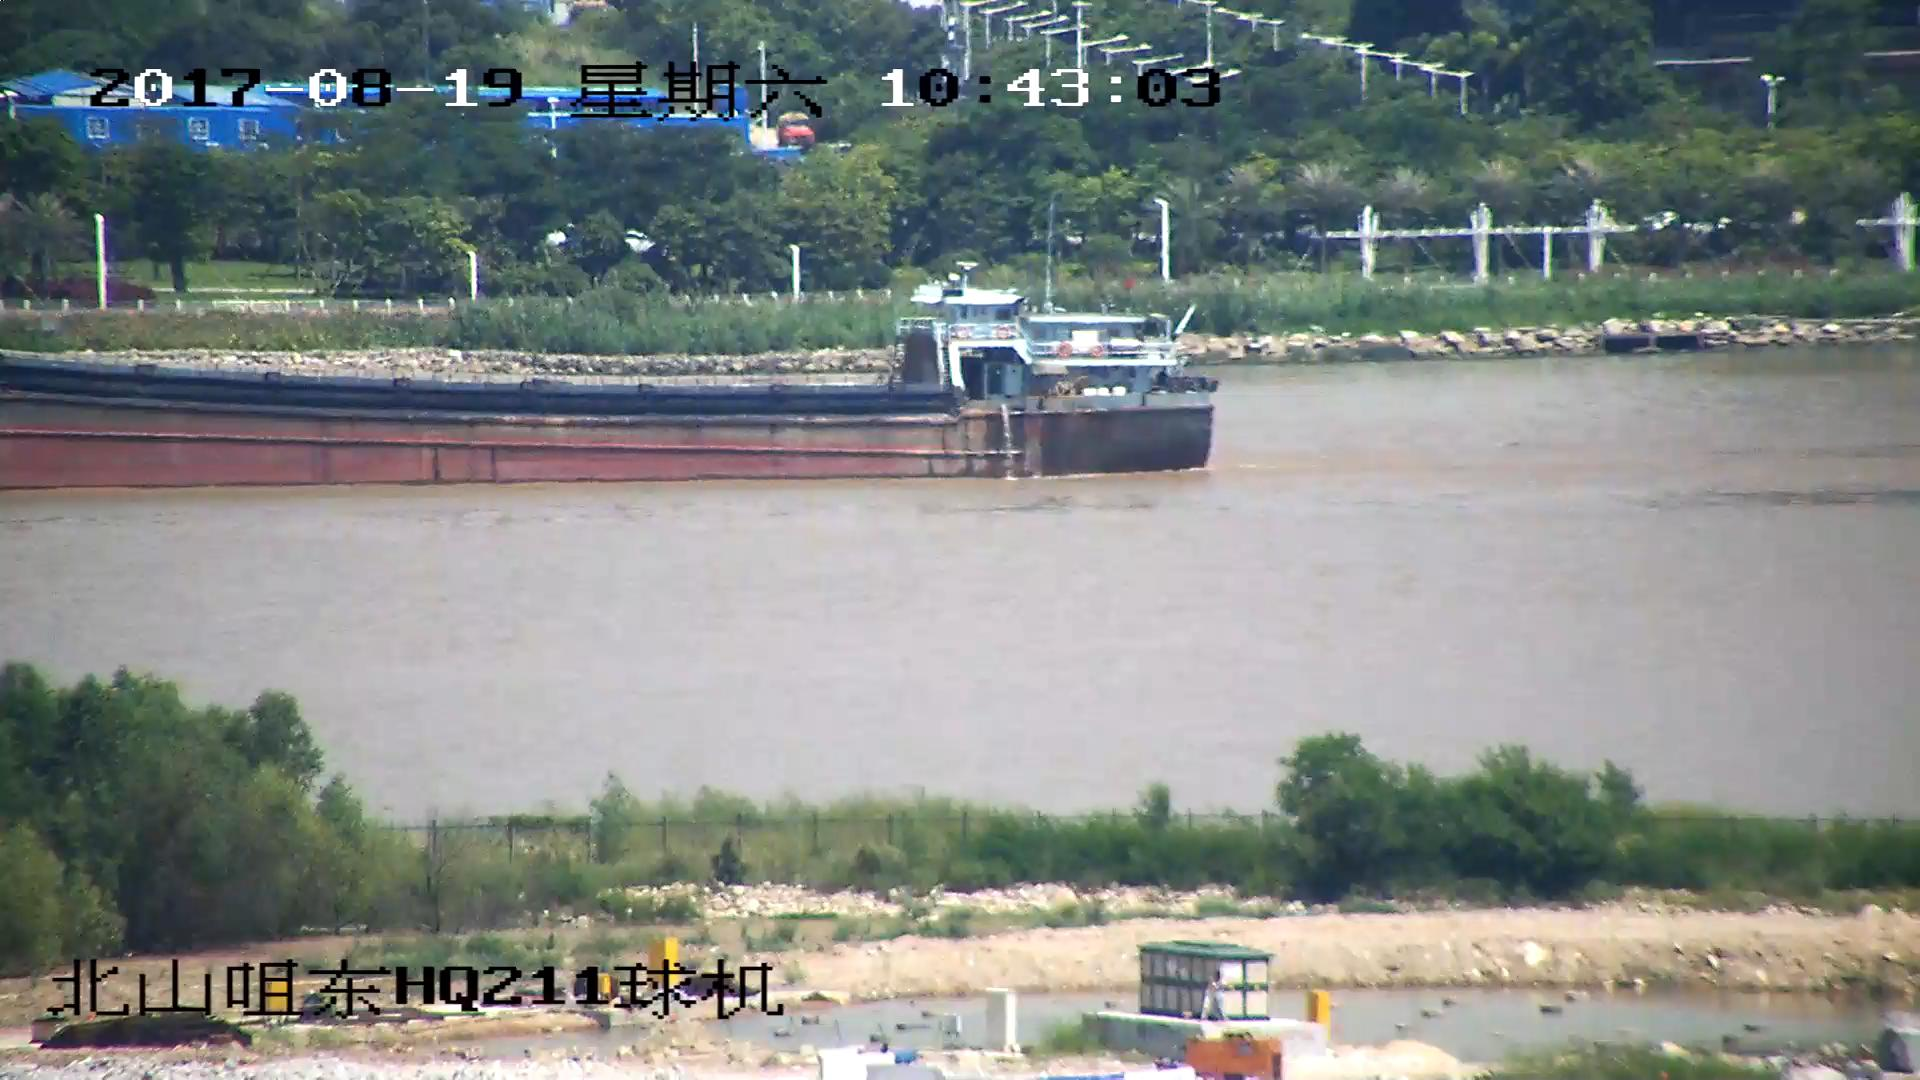bulk cargo carrier: (1, 252, 1216, 485)
